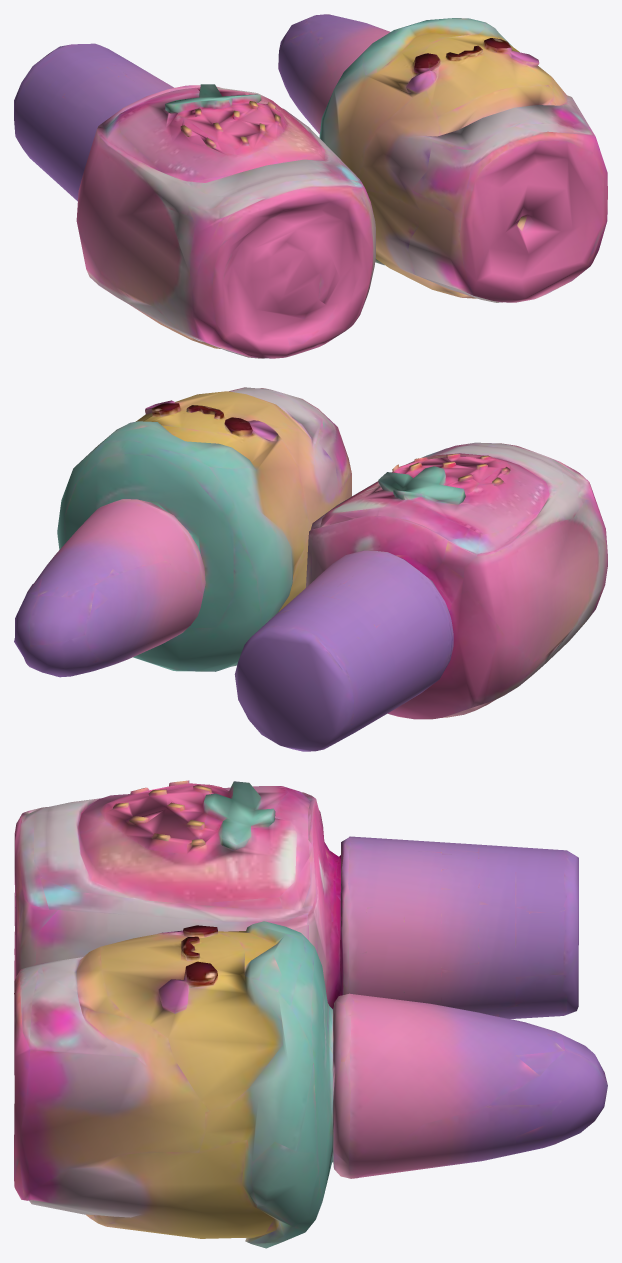
3 views of the same model, one above another, from view 1: azimuth 30°, elevation 25°; view 2: azimuth 150°, elevation 25°; view 3: azimuth 270°, elevation 25° (orthographic). The views are drawn at different scales.
Parts seen in each view (by area): view 1: material; view 2: material; view 3: material.
Part boxes in pixels (left/top/right/bottom): material: left=14, top=14, right=607, bottom=358; material: left=14, top=387, right=607, bottom=751; material: left=14, top=780, right=607, bottom=1248.
Bounding box in the file's own units: 1 × 0.4877 × 0.9114.
1 material, 1 textured.
